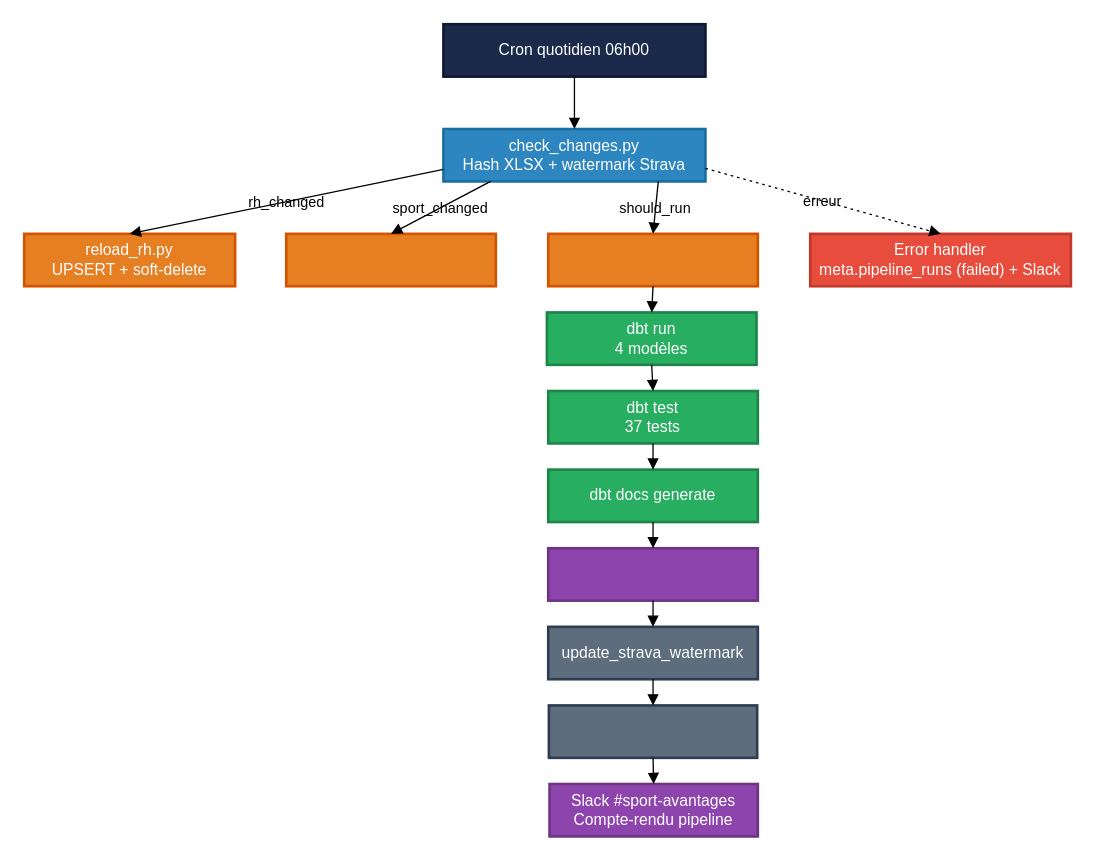
Some shapes in this 1094 by 859 pixel diagram are drawn without their labels. The box of each missing label's shape, as (x1, y1, x2, y2) in pixels:
meta.pipeline_runs INSERT résultat: (547, 703, 758, 758)
notify_slack_activities 1 msg personnalisé / activité: (546, 546, 758, 601)
recalculate_distances.py Google Maps → cache: (546, 232, 758, 287)
reload_sport.py UPSERT + delete-absent: (284, 232, 496, 287)
